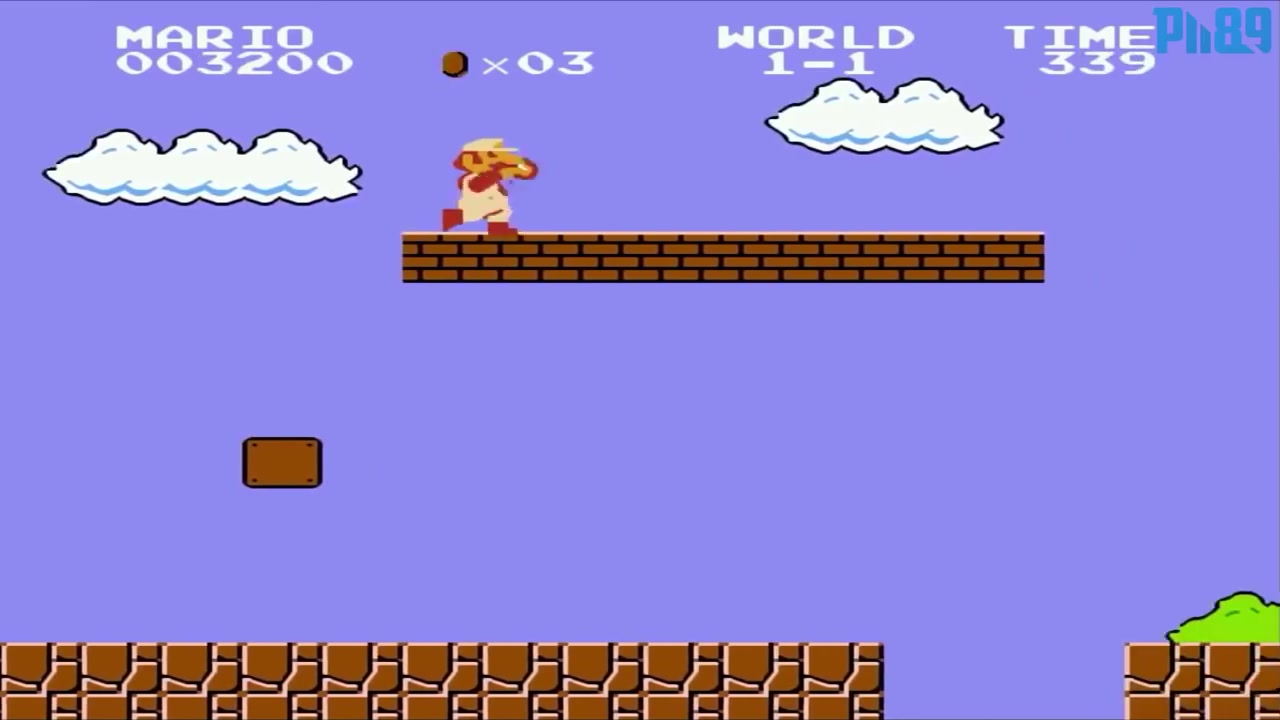mario: (442, 131, 540, 243)
